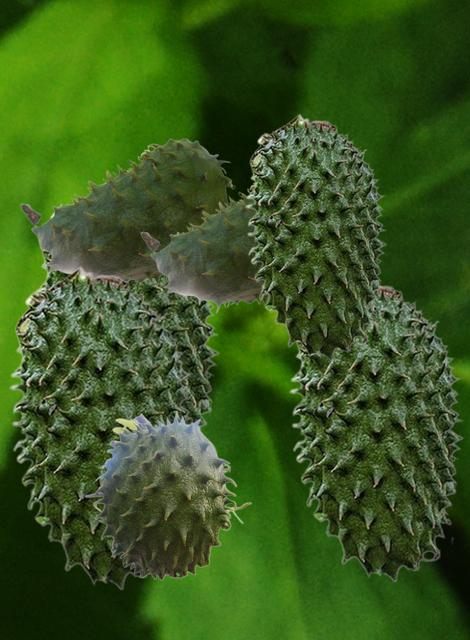guyabano: (9, 265, 194, 589), (289, 283, 463, 581), (35, 181, 219, 434), (245, 113, 386, 360), (20, 138, 234, 285), (84, 411, 251, 580), (140, 182, 267, 312)
